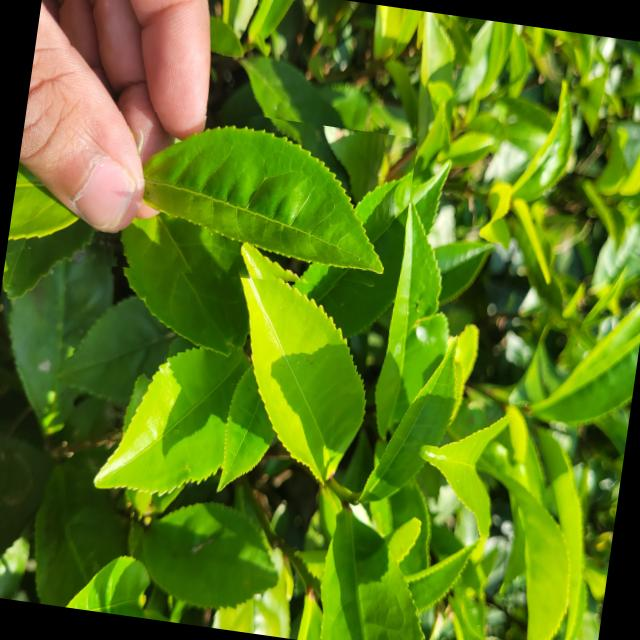Catagory A(1-2 days): (98, 98, 419, 306)
